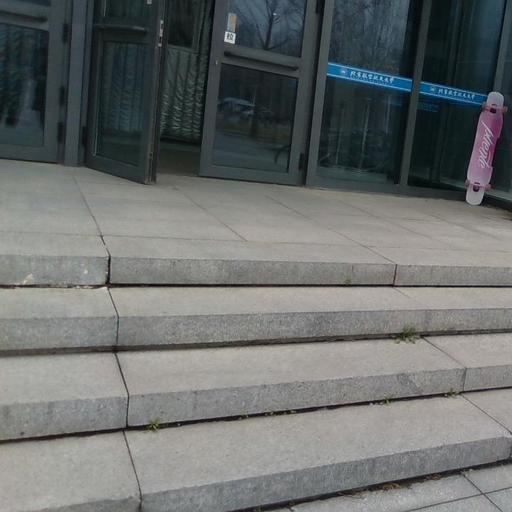stairs: (0, 240, 511, 511)
